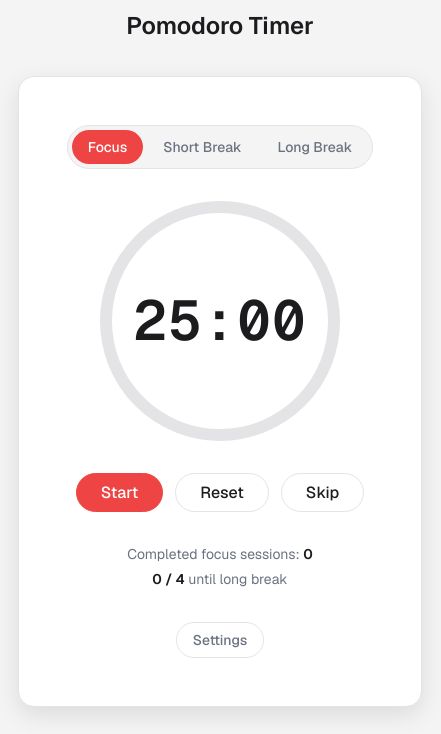
Scenario: PomodoroApp › Reset returns to 25:00 and stops
Click the button "Start" at (120, 492), box [76, 472, 163, 512]
Wait 5000 ms
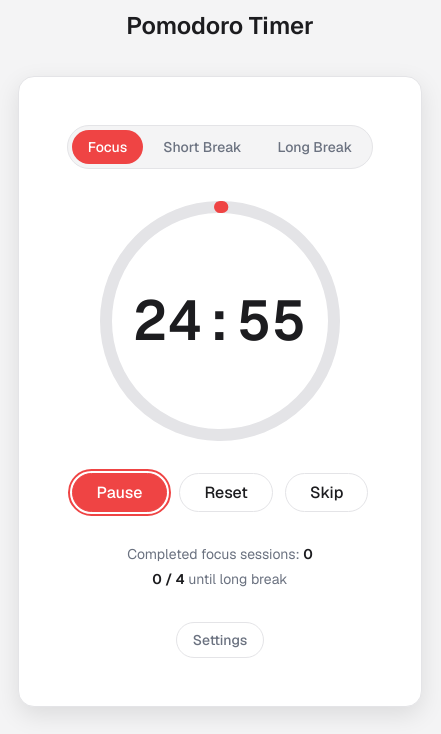
Expected: the text "24:55" is shown, [133, 292, 307, 348]
Click the button "Reset" at (226, 492), box [180, 472, 273, 512]
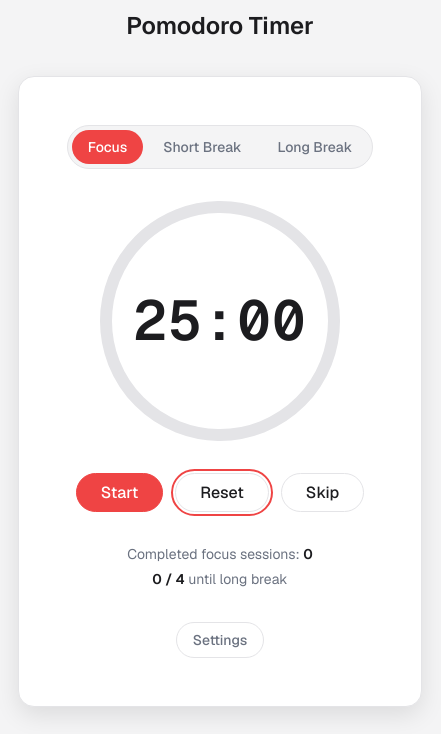
Expected: the text "25:00" is shown, [133, 292, 307, 348]
Expected: the button "Start" is shown, [76, 472, 163, 512]
